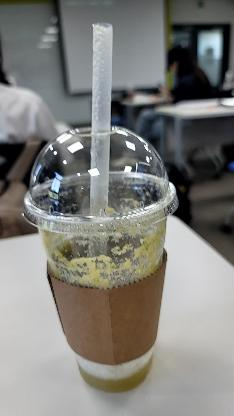Plastic Cup: (23, 122, 190, 400), (19, 122, 178, 236)
